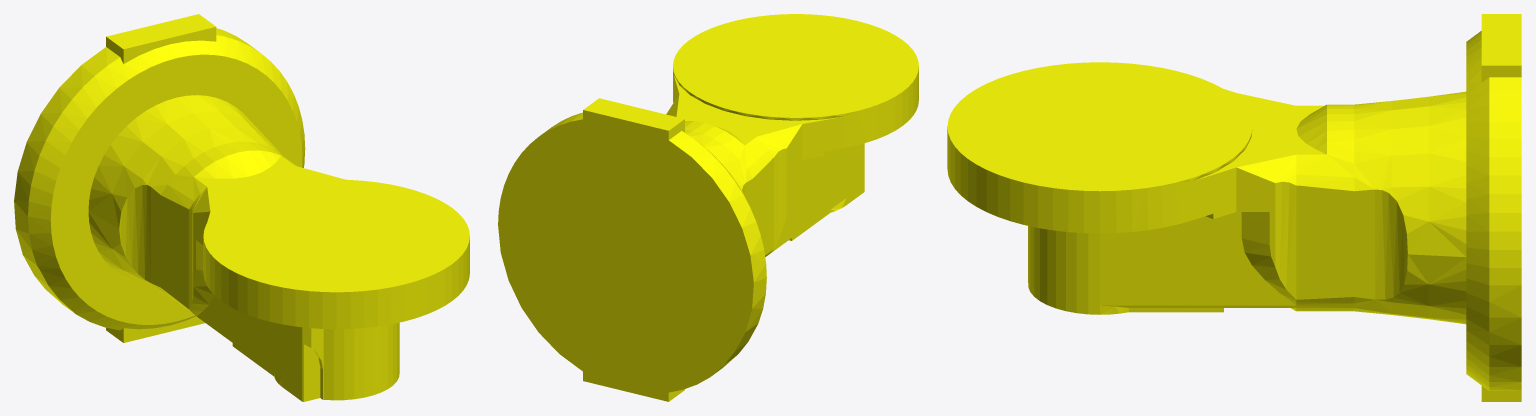
3 renders of one model, left to right at view 1: azimuth 30°, elevation 25°; view 2: azimuth 150°, elevation 25°; view 3: azimuth 270°, elevation 25°, orthographic. The views are drawn at different scales.
Visible parts, largest first — view 1: node; view 2: node; view 3: node.
Boxes of the visible parts, box(x1,y1,x2,y2) form: node: box(14, 14, 469, 401); node: box(498, 14, 918, 401); node: box(947, 14, 1521, 401).
Bounding box in the file's own units: 239 × 242 × 374.
